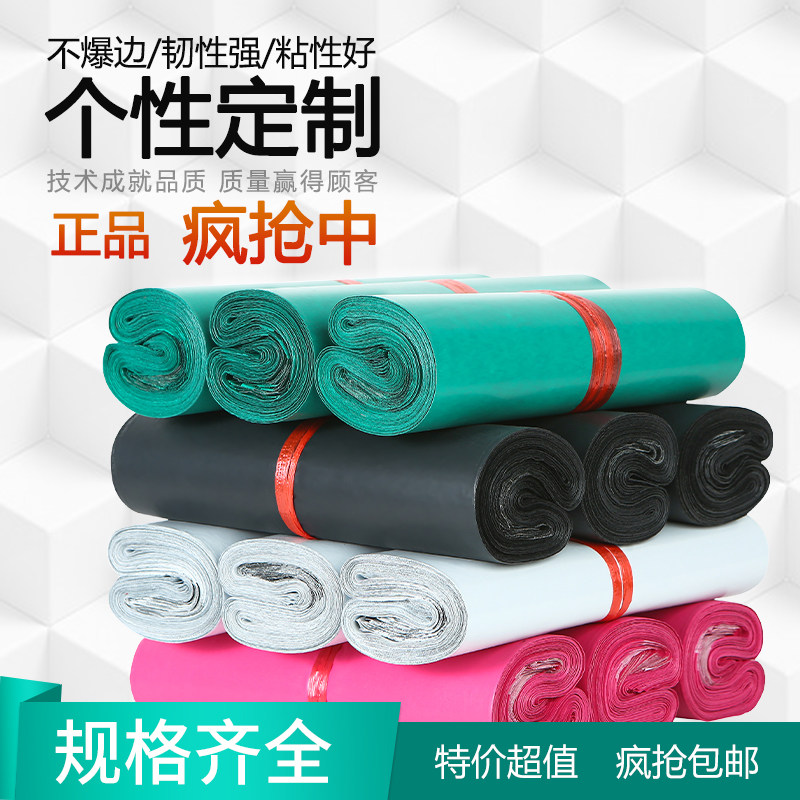Parcel: (104, 278, 771, 720)
